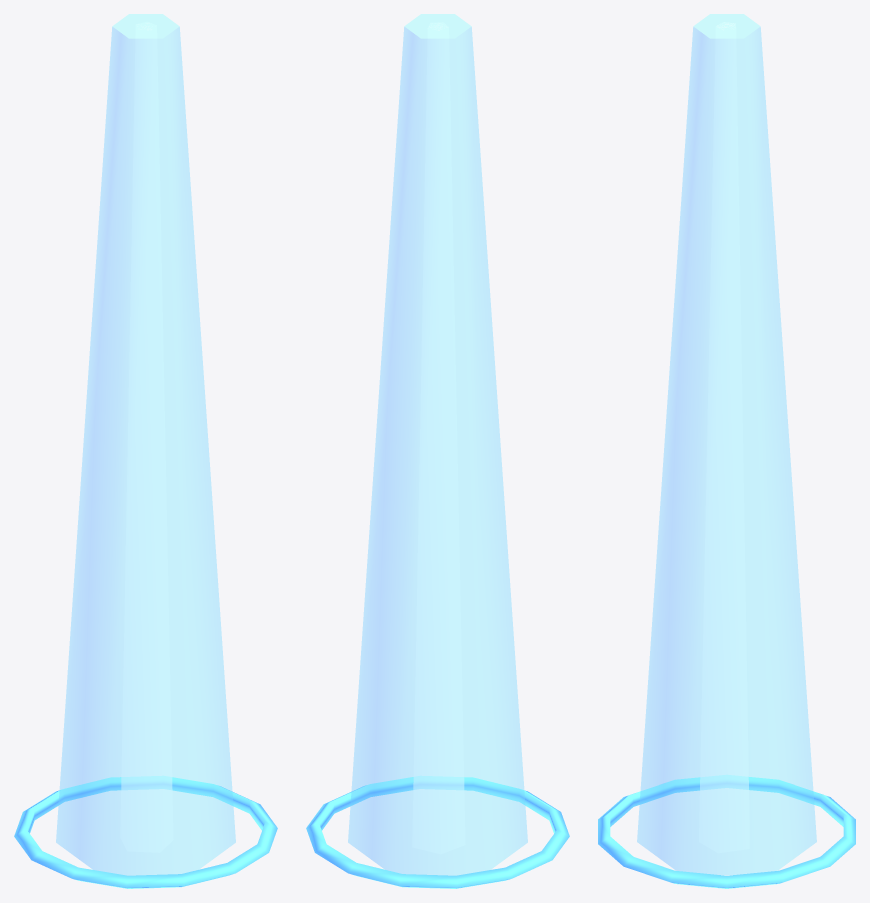
File: fx_loot_beam_magic.glb
3 renders of one model, left to right at view 1: azimuth 30°, elevation 25°; view 2: azimuth 150°, elevation 25°; view 3: azimuth 270°, elevation 25°, orthographic.
Visible parts, largest first — view 1: beam_lootBeam, beam_lootCore, ring_lootRing; view 2: beam_lootBeam, beam_lootCore, ring_lootRing; view 3: beam_lootBeam, beam_lootCore, ring_lootRing.
Boxes of the visible parts, x1,y1,x2,y2 form: beam_lootBeam: (56,14,235,875); beam_lootCore: (120,22,173,852); ring_lootRing: (14,776,277,888); beam_lootBeam: (348,14,527,875); beam_lootCore: (412,22,465,853); ring_lootRing: (306,776,569,888); beam_lootBeam: (637,14,816,874); beam_lootCore: (699,22,749,852); ring_lootRing: (598,775,855,888).
Size of the model in its own units: 0.47 by 1.6 by 0.4582.
